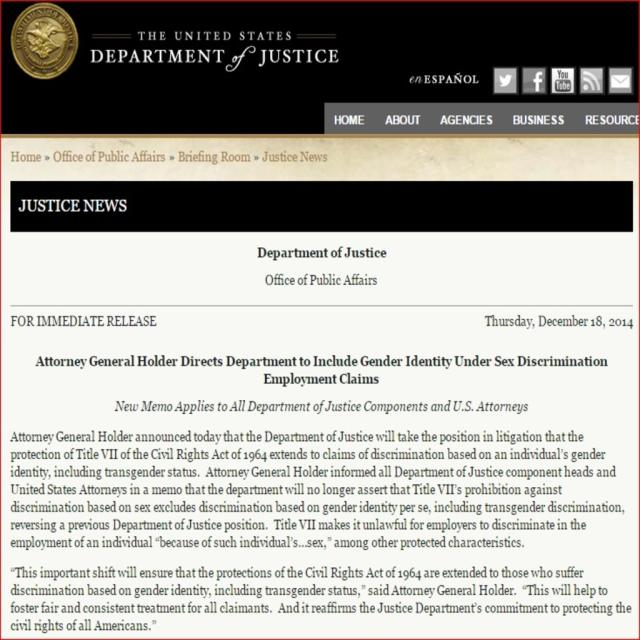Coin: (10, 4, 78, 77)
